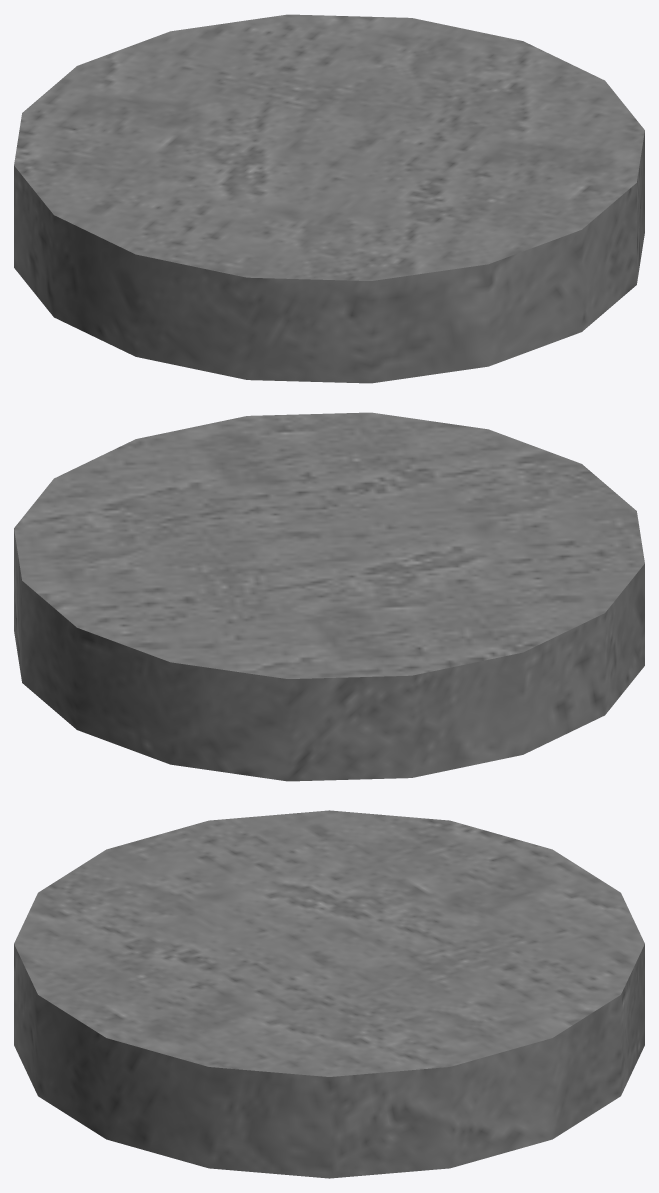
The model's file is icub_l_shoulder_1.dae.
3 views of the same model, one above another, from view 1: azimuth 30°, elevation 25°; view 2: azimuth 150°, elevation 25°; view 3: azimuth 270°, elevation 25° (orthographic).
Visible parts, largest first — view 1: l_shoulder_1_mesh; view 2: l_shoulder_1_mesh; view 3: l_shoulder_1_mesh.
Boxes of the visible parts, bbox=[...] form: l_shoulder_1_mesh: bbox=[14, 14, 644, 383]; l_shoulder_1_mesh: bbox=[14, 412, 644, 781]; l_shoulder_1_mesh: bbox=[14, 810, 644, 1178].
Bounding box in the file's own units: 0.062 × 0.062 × 0.011.
1 material, 1 textured.
